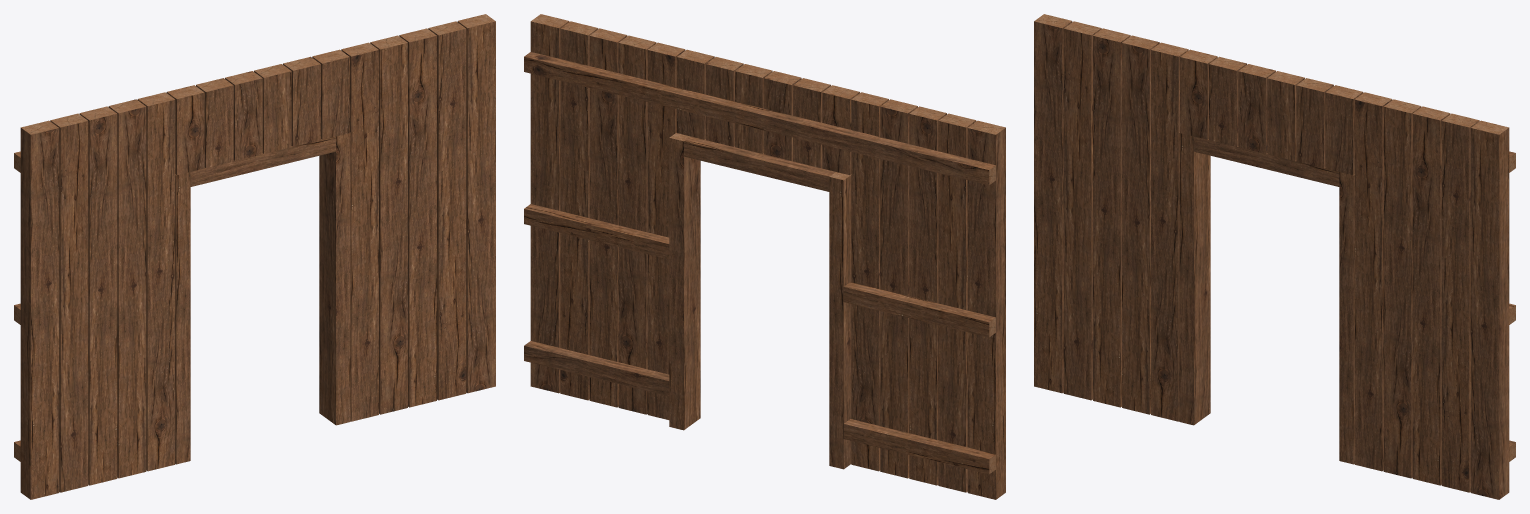
File: W09_DoorwayWall_4x3x0.25.fbx
3 renders of one model, left to right at view 1: azimuth 30°, elevation 25°; view 2: azimuth 150°, elevation 25°; view 3: azimuth 330°, elevation 25°, orthographic.
Visible parts, largest first — view 1: OpeningKit_W09_Export; view 2: OpeningKit_W09_Export; view 3: OpeningKit_W09_Export.
Part boxes in pixels (x1,y1,x2,y2): OpeningKit_W09_Export: (14,14,495,499); OpeningKit_W09_Export: (524,14,1005,499); OpeningKit_W09_Export: (1034,14,1515,499).
Bounding box in the file's own units: 4 × 3 × 0.25.
